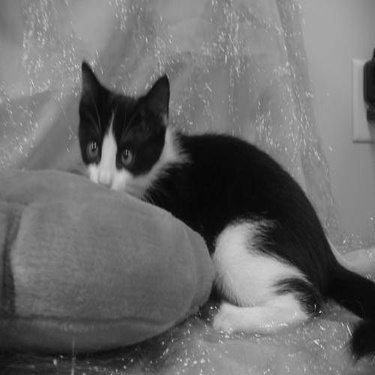cat: (53, 57, 373, 344)
